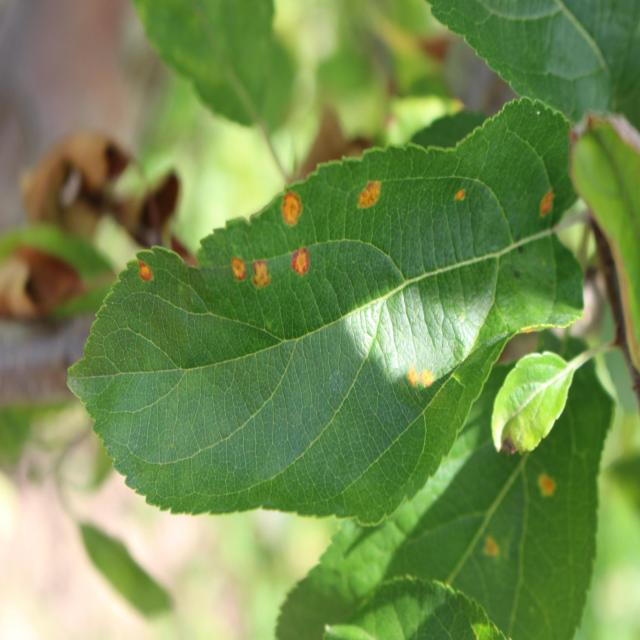Rust: (395, 352, 451, 401), (270, 177, 305, 236), (246, 249, 275, 312), (470, 525, 514, 566), (280, 241, 315, 291), (527, 462, 562, 512), (349, 175, 387, 214), (526, 185, 563, 224), (224, 239, 250, 294), (447, 178, 477, 222), (132, 249, 156, 295)
